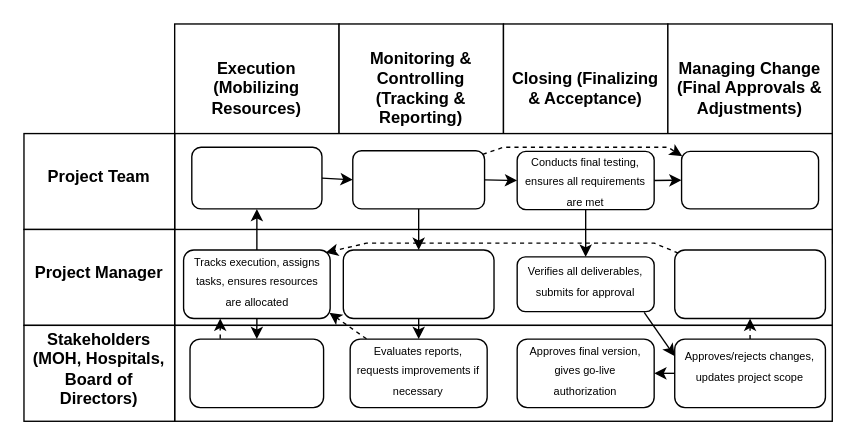
This 856x445 diagram has some shape labels left out. Here are the shapes that lost their labels. From the top down, the centre of each, then its label:
the point at 256,177: Develops MealMate app, AI model, integrates with hospital system
the point at 418,179: Reports weekly progress, updates app features, fixes issues
the point at 749,179: Identifies issues requiring timeline adjustments
the point at 418,284: Compares actual vs. planned progress, prepares performance reports
the point at 749,284: Receive change requests, updates Gantt chart accordingly
the point at 256,373: Reviews project execution updates, provides initial feedback
